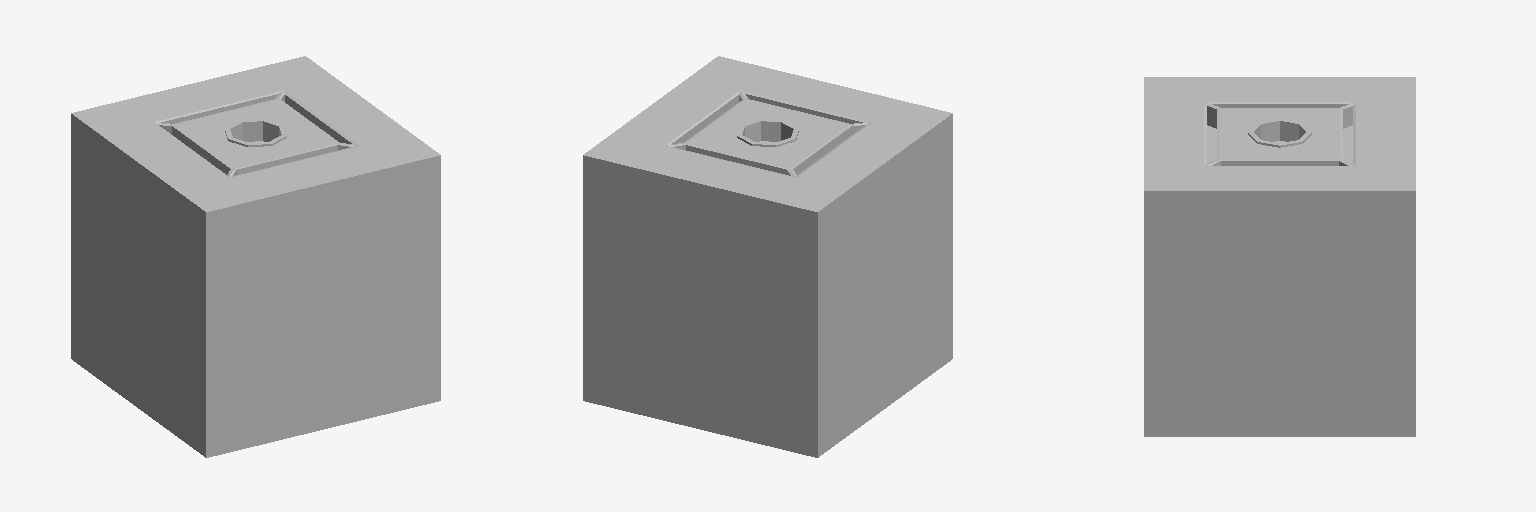
Rendered from rod_b.obj.
3 renders of one model, left to right at view 1: azimuth 30°, elevation 25°; view 2: azimuth 150°, elevation 25°; view 3: azimuth 270°, elevation 25°, orthographic.
Parts seen in each view (by area): view 1: rod_b; view 2: rod_b; view 3: rod_b.
Part boxes in pixels (bbox=[...]): rod_b: bbox=[71, 56, 440, 457]; rod_b: bbox=[583, 56, 952, 457]; rod_b: bbox=[1144, 77, 1415, 436].
Size of the model in its own units: 0.9703 by 0.9787 by 0.9703.